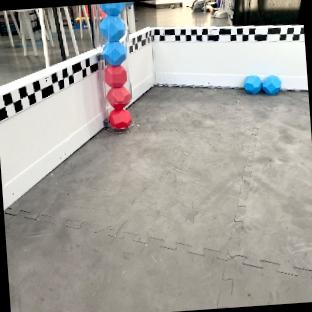Loader: (93, 2, 134, 131)
V5_BLUE: (99, 2, 125, 38), (243, 75, 281, 94), (101, 40, 125, 63)
V5_RED: (108, 106, 131, 129), (104, 63, 126, 86), (106, 85, 130, 106)
